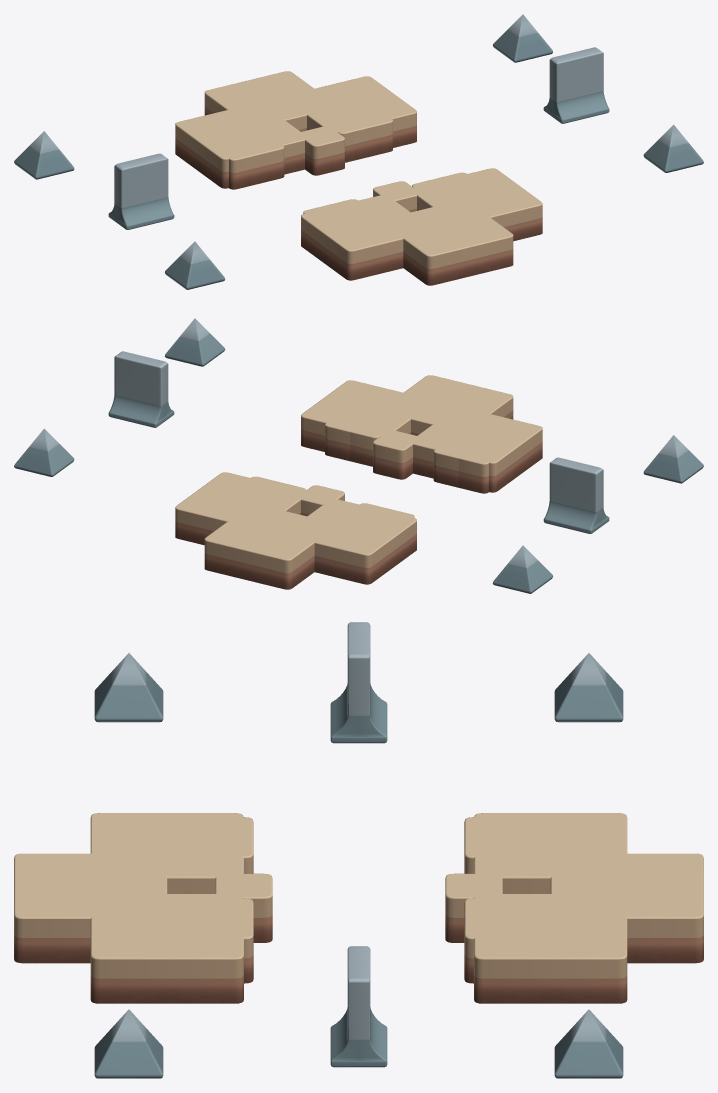
The model's file is Props.fbx.
The picture shows the model from 3 angles, top to bottom: view 1: azimuth 30°, elevation 25°; view 2: azimuth 150°, elevation 25°; view 3: azimuth 270°, elevation 25°; orthographic projection. The views are drawn at different scales.
Visible parts, largest first — view 1: Box02 (2) (×2), Box02 (3) (×2), 曲面单元 (×2), 三角锥 (×4), Box01 (5) (×4), Box02 (4), Box02 (5), Box01 (7) (×2), Box01 (4) (×4), Box01 (3) (×2), Box01 (2) (×2), Box01 (×2) (+2 smaller); view 2: Box02 (3) (×2), Box02 (2) (×2), 曲面单元 (×2), 三角锥 (×4), Box01 (4) (×4), Box02 (5), Box02 (4), Box01 (5) (×4), Box01 (6) (×2), Box01 (×2), Box01 (1) (×2), Box01 (2) (×2) (+2 smaller); view 3: Box02 (2) (×2), Box02 (3) (×2), 三角锥 (×4), Box02 (5), Box02 (4), 曲面单元 (×2), Box01 (4) (×4), Box01 (5) (×4), Box01 (7) (×2), Box01 (6) (×2), Box01 (1) (×2), Box01 (×2) (+2 smaller).
Boxes of the visible parts, bbox=[...] form: Box02 (2) (×2): bbox=[301, 195, 513, 285]; Box02 (3) (×2): bbox=[175, 71, 333, 188]; 曲面单元 (×2): bbox=[108, 47, 609, 229]; 三角锥 (×4): bbox=[14, 14, 703, 289]; Box01 (5) (×4): bbox=[216, 85, 344, 189]; Box02 (4): bbox=[413, 168, 542, 241]; Box02 (5): bbox=[286, 76, 416, 147]; Box01 (7) (×2): bbox=[325, 108, 392, 162]; Box01 (4) (×4): bbox=[303, 181, 475, 241]; Box01 (3) (×2): bbox=[328, 80, 382, 113]; Box01 (2) (×2): bbox=[219, 106, 273, 140]; Box01 (×2): bbox=[344, 213, 424, 235]; Box02 (3) (×2): bbox=[204, 499, 416, 589]; Box02 (2) (×2): bbox=[384, 375, 542, 492]; 曲面单元 (×2): bbox=[108, 351, 609, 533]; 三角锥 (×4): bbox=[14, 318, 703, 593]; Box01 (4) (×4): bbox=[373, 389, 501, 493]; Box02 (5): bbox=[175, 472, 304, 545]; Box02 (4): bbox=[301, 380, 431, 451]; Box01 (5) (×4): bbox=[242, 485, 414, 545]; Box01 (6) (×2): bbox=[325, 412, 392, 466]; Box01 (×2): bbox=[444, 410, 498, 444]; Box01 (1) (×2): bbox=[335, 384, 389, 417]; Box01 (2) (×2): bbox=[293, 517, 373, 539]; Box02 (2) (×2): bbox=[14, 813, 243, 963]; Box02 (3) (×2): bbox=[474, 813, 703, 963]; 三角锥 (×4): bbox=[94, 653, 623, 1078]; Box02 (5): bbox=[474, 894, 627, 1003]; Box02 (4): bbox=[90, 894, 243, 1003]; 曲面单元 (×2): bbox=[330, 622, 387, 1067]; Box01 (4) (×4): bbox=[44, 817, 272, 942]; Box01 (5) (×4): bbox=[445, 817, 673, 942]; Box01 (7) (×2): bbox=[464, 898, 520, 983]; Box01 (6) (×2): bbox=[197, 898, 253, 983]; Box01 (1) (×2): bbox=[101, 914, 194, 953]; Box01 (×2): bbox=[101, 833, 194, 872].
Size of the model in its own units: 47.59 by 7.49 by 36.
